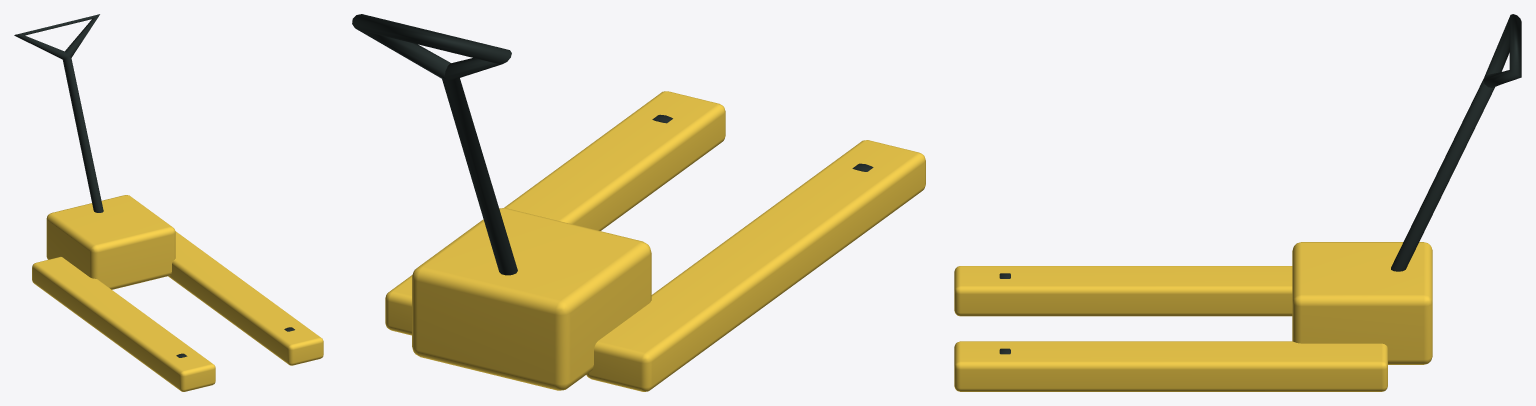
File: SM_EG_PalletJack_9f26a4be6f.fbx
The picture shows the model from 3 angles, left to right: view 1: azimuth 30°, elevation 25°; view 2: azimuth 150°, elevation 25°; view 3: azimuth 270°, elevation 25°; orthographic projection. The views are drawn at different scales.
Parts seen in each view (by area): view 1: SM_EG_PalletJack_9f26a4be6f; view 2: SM_EG_PalletJack_9f26a4be6f; view 3: SM_EG_PalletJack_9f26a4be6f.
Part boxes in pixels (x1=…): SM_EG_PalletJack_9f26a4be6f: x1=14, y1=14, x2=323, y2=391; SM_EG_PalletJack_9f26a4be6f: x1=352, y1=14, x2=925, y2=391; SM_EG_PalletJack_9f26a4be6f: x1=954, y1=14, x2=1521, y2=391.
Size of what is drawn, in the model's own units: 93 by 222 by 133.
